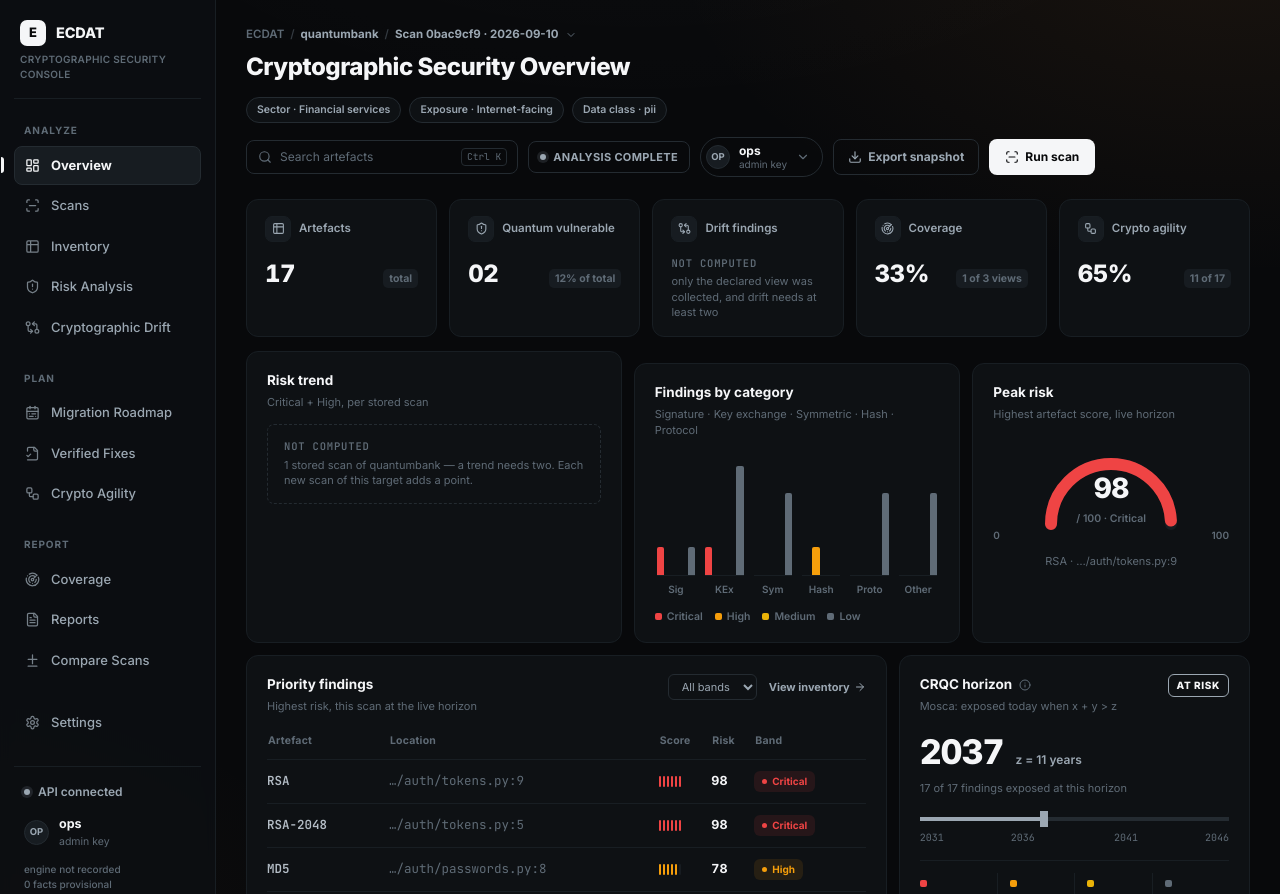
Test case: the sign-in gate › Sign out forgets the key and returns to the gate
Step 1. Click the button with aria-label "user menu" → (762, 157), box [700, 137, 823, 176]
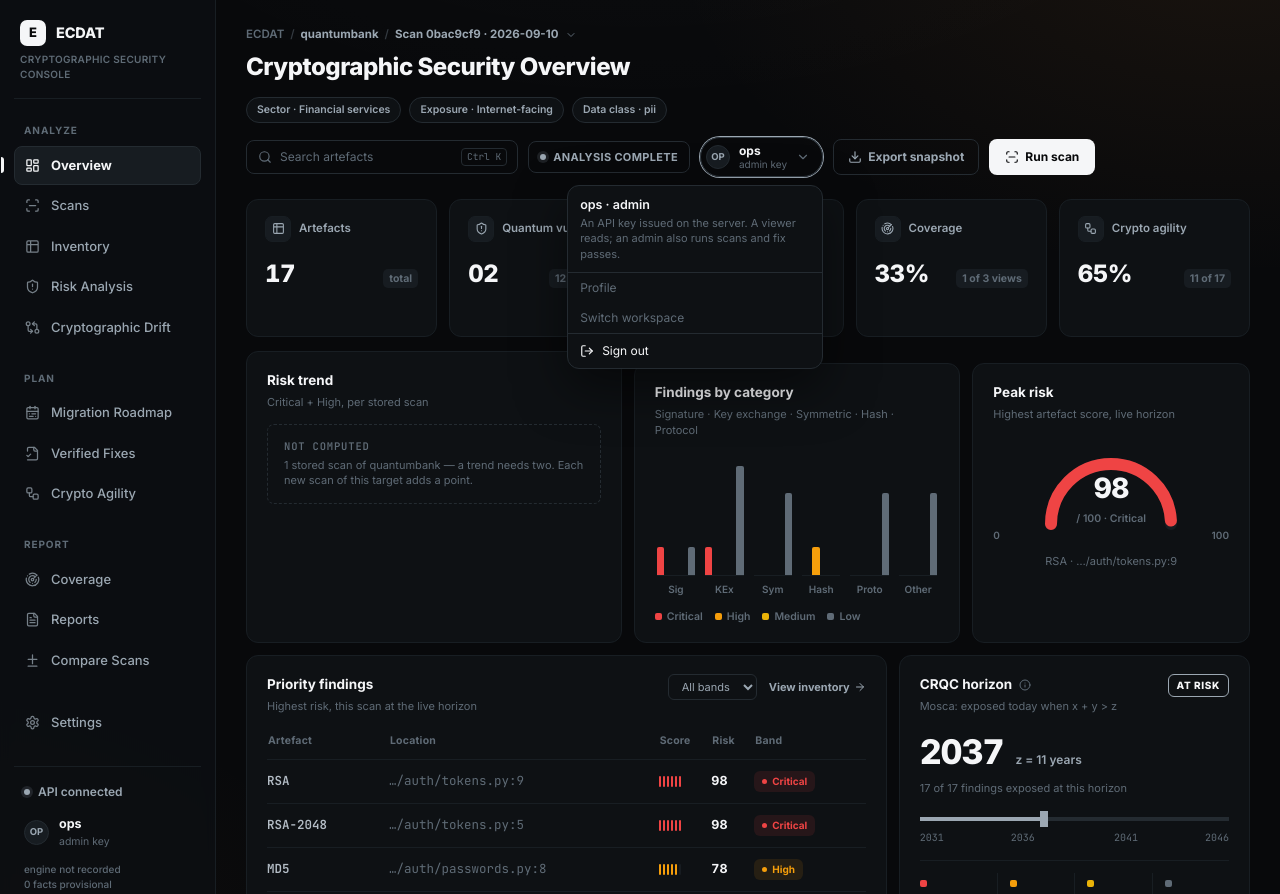
Step 2. Click the menu item "Sign out" → (695, 350), box [568, 333, 822, 368]
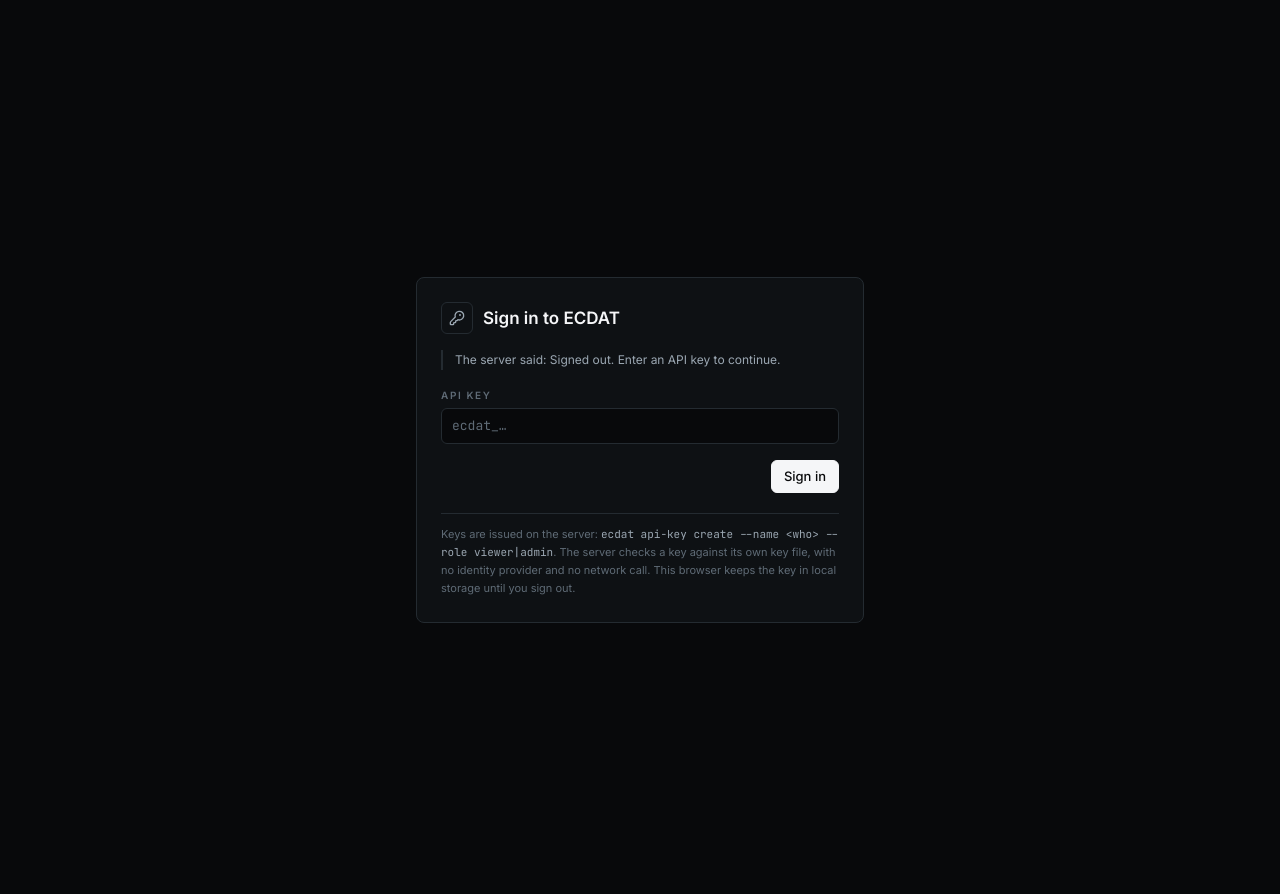
Expected: the heading "Sign in to ECDAT" is shown, [483, 306, 620, 331]
